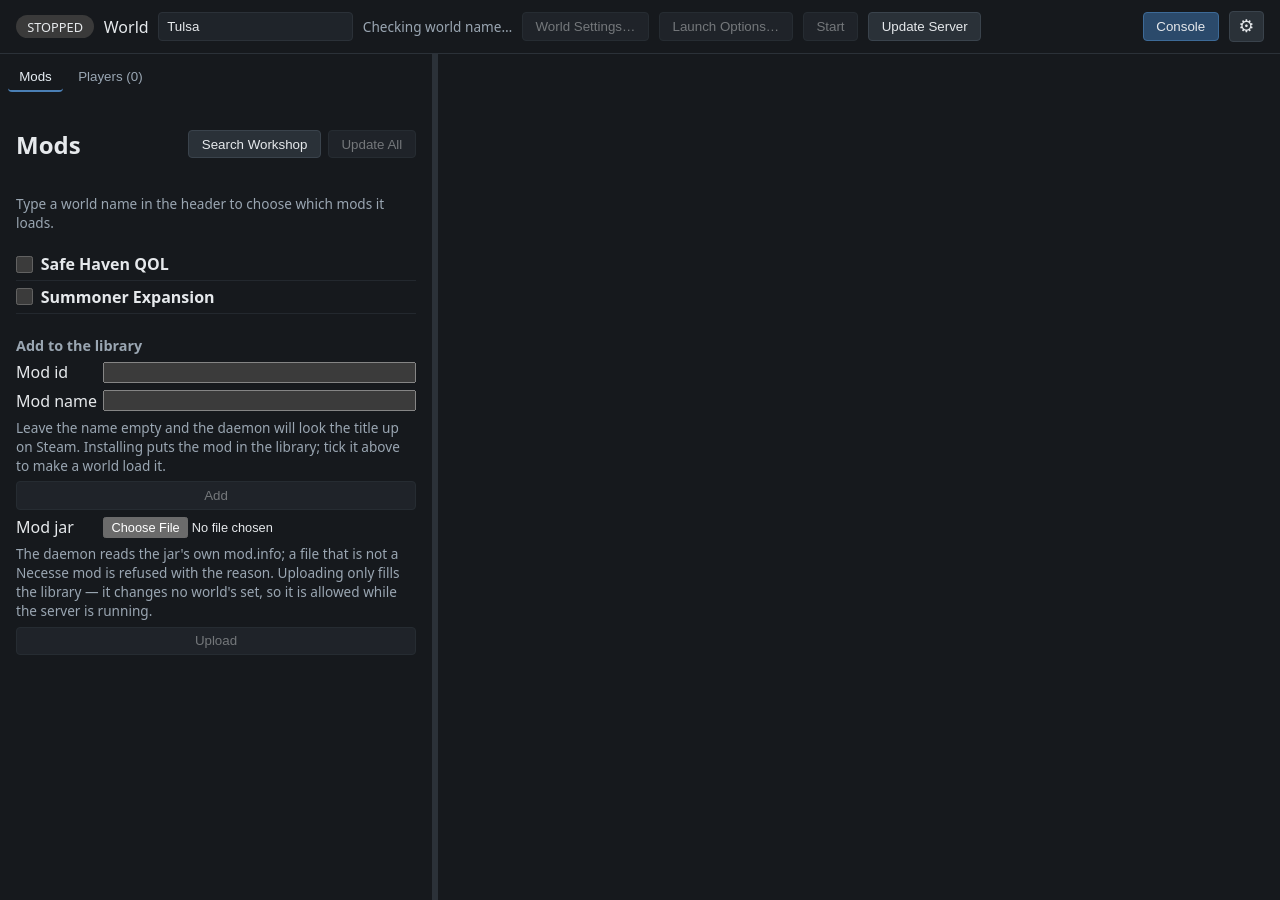
Test case: App console toggle › puts the console back, with the tabs, when toggled again
expect the button "Update Server" is shown: met, box [868,12,981,41]
Click the button "Console" at (1181, 27), box [1142,12,1219,41]
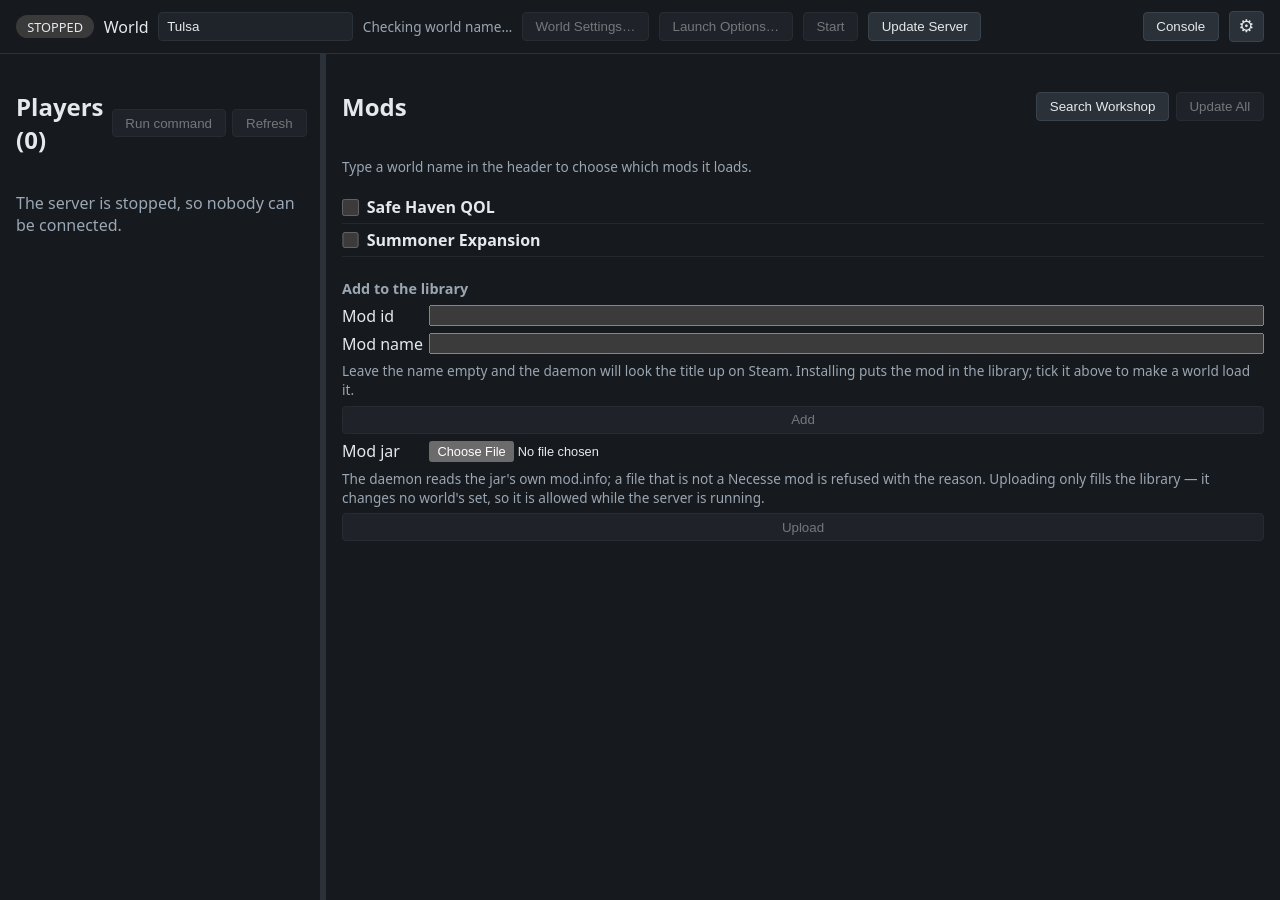
Click the button "Console" at (1181, 27), box [1142,12,1219,41]
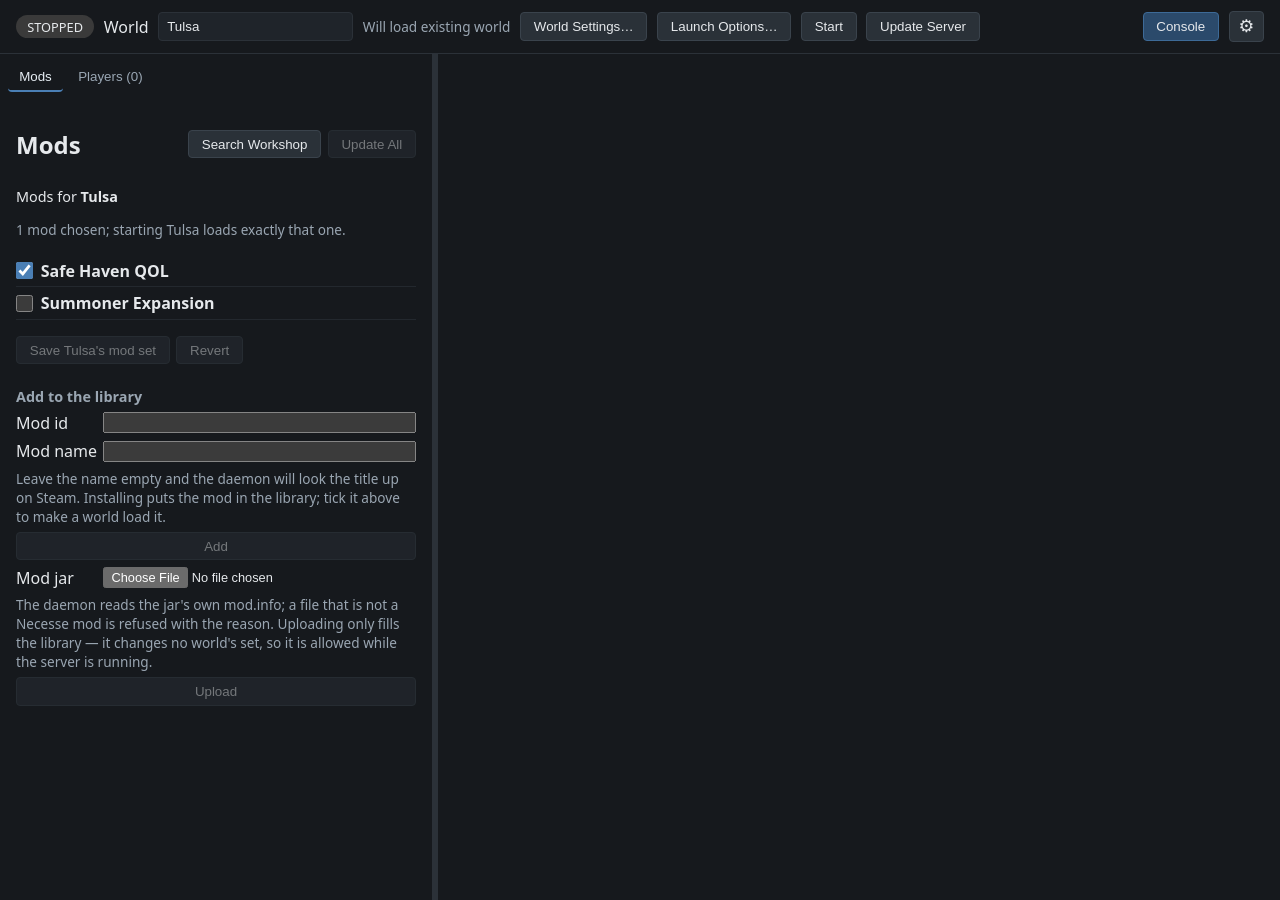
expect the tab "Mods" is shown: met, box [8,62,63,92]
